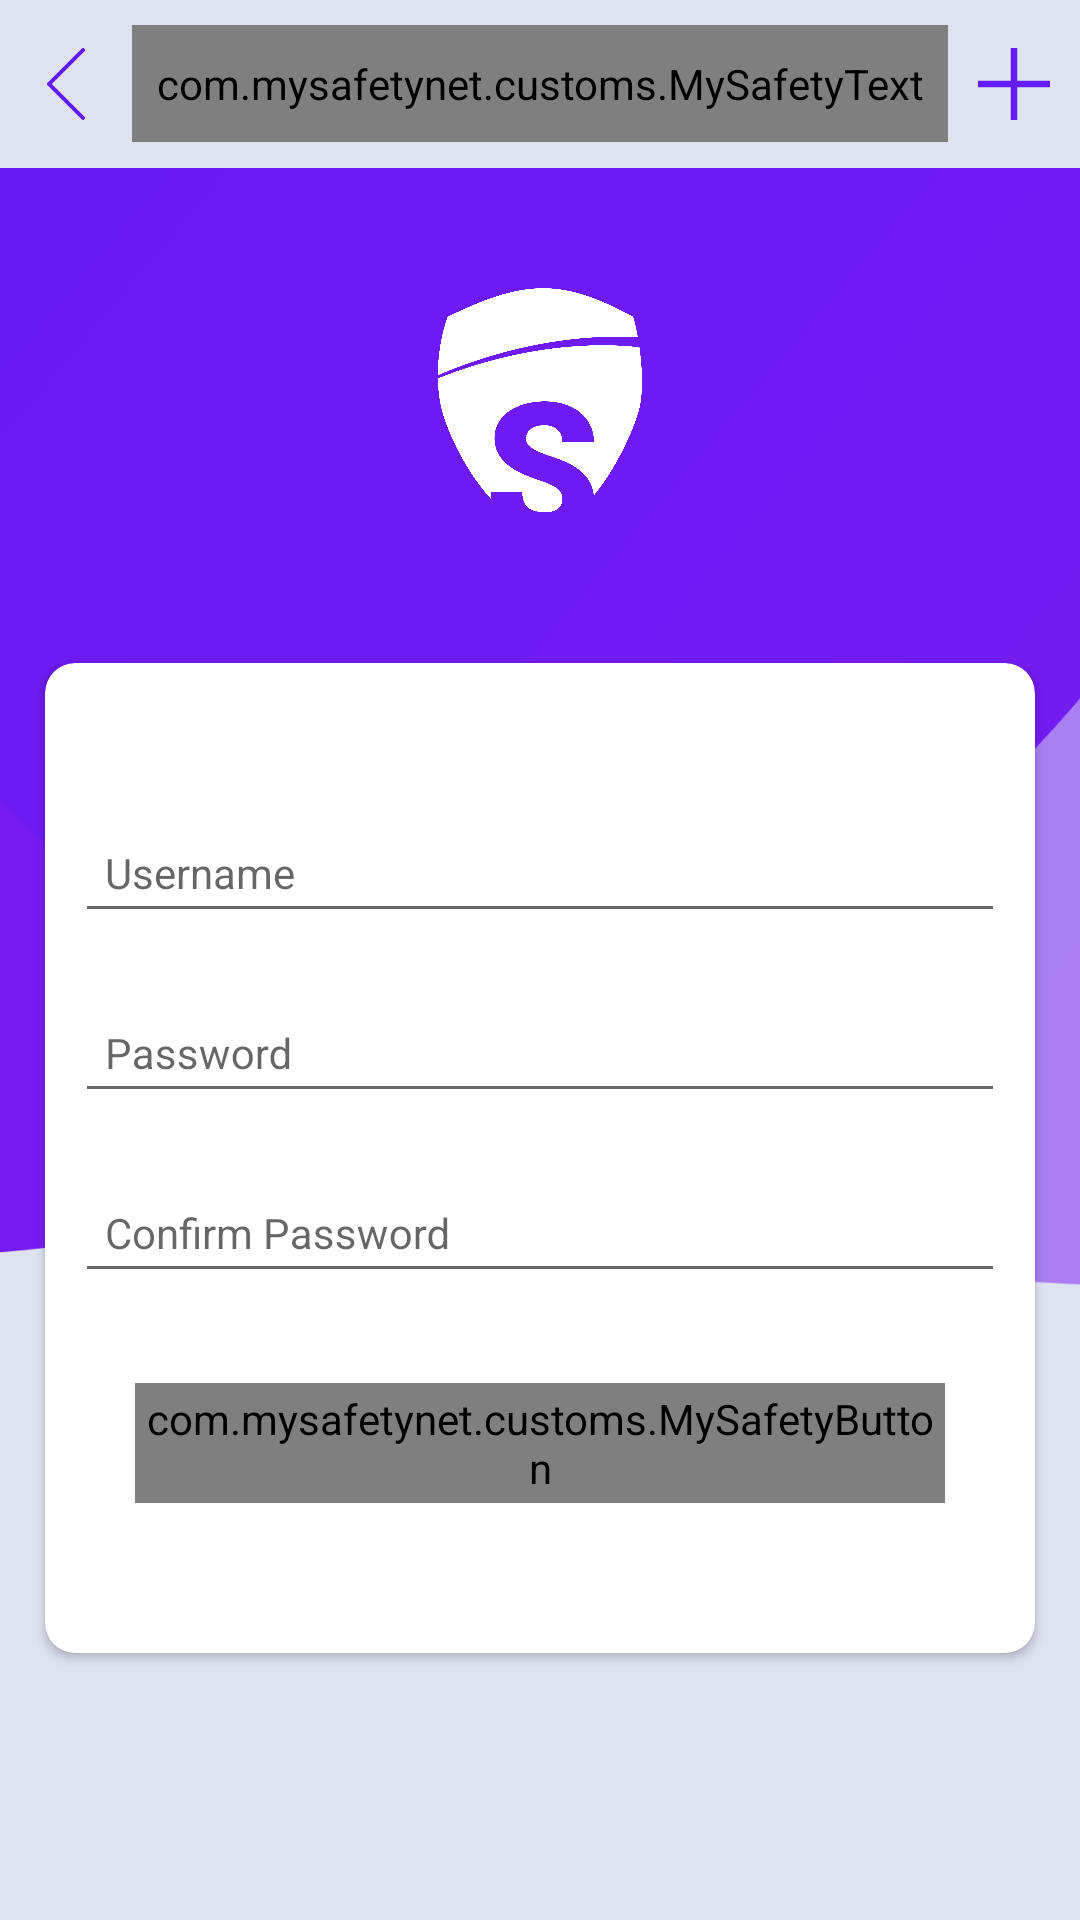

Locate icon controls on the screen. Image size 1080 x 1920, boxes as (x1, y1, x2, y2).
add: (978, 48, 1050, 120)
back: (47, 48, 85, 120)
